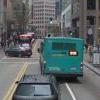Bus: (39, 31, 86, 82)
